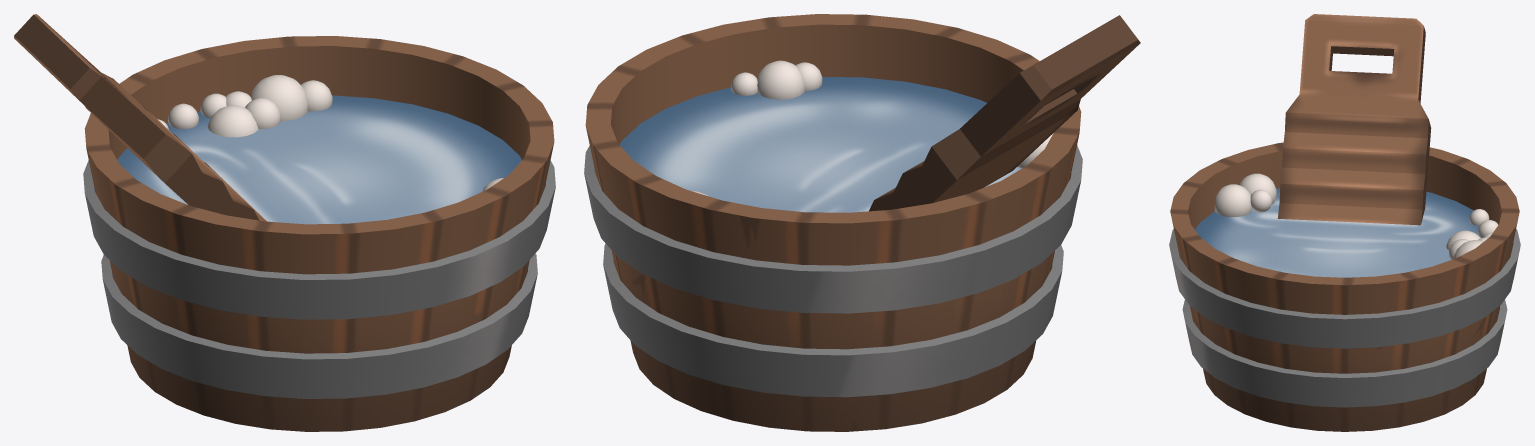
The model's file is Washboard.fbx.
The picture shows the model from 3 angles, left to right: view 1: azimuth 30°, elevation 25°; view 2: azimuth 150°, elevation 25°; view 3: azimuth 270°, elevation 25°; orthographic projection. The views are drawn at different scales.
Parts seen in each view (by area): view 1: Cylinder; view 2: Cylinder; view 3: Cylinder.
Boxes of the visible parts, x1,y1,x2,y2 form: Cylinder: (14,14,555,431); Cylinder: (584,14,1140,431); Cylinder: (1169,14,1520,431).
Bounding box in the file's own units: 232 × 168 × 201.
